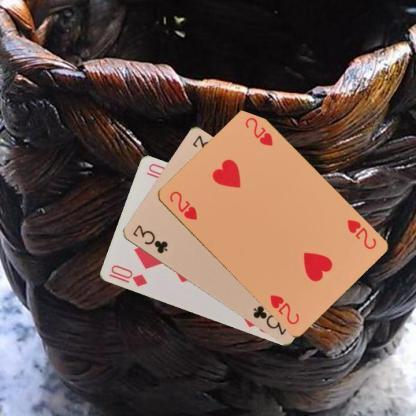10d: (106, 262, 148, 288)
2h: (344, 216, 378, 250), (166, 188, 198, 222)
3c: (130, 222, 170, 256)
